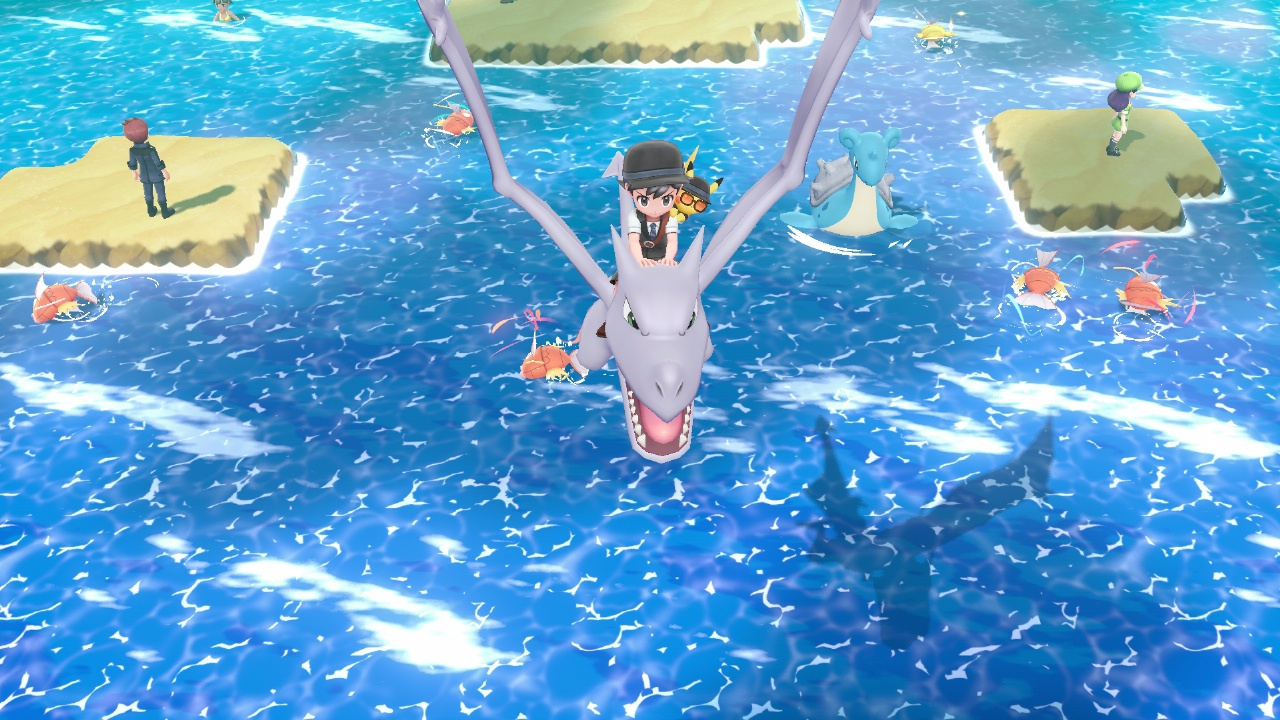Golden: (915, 19, 952, 50)
